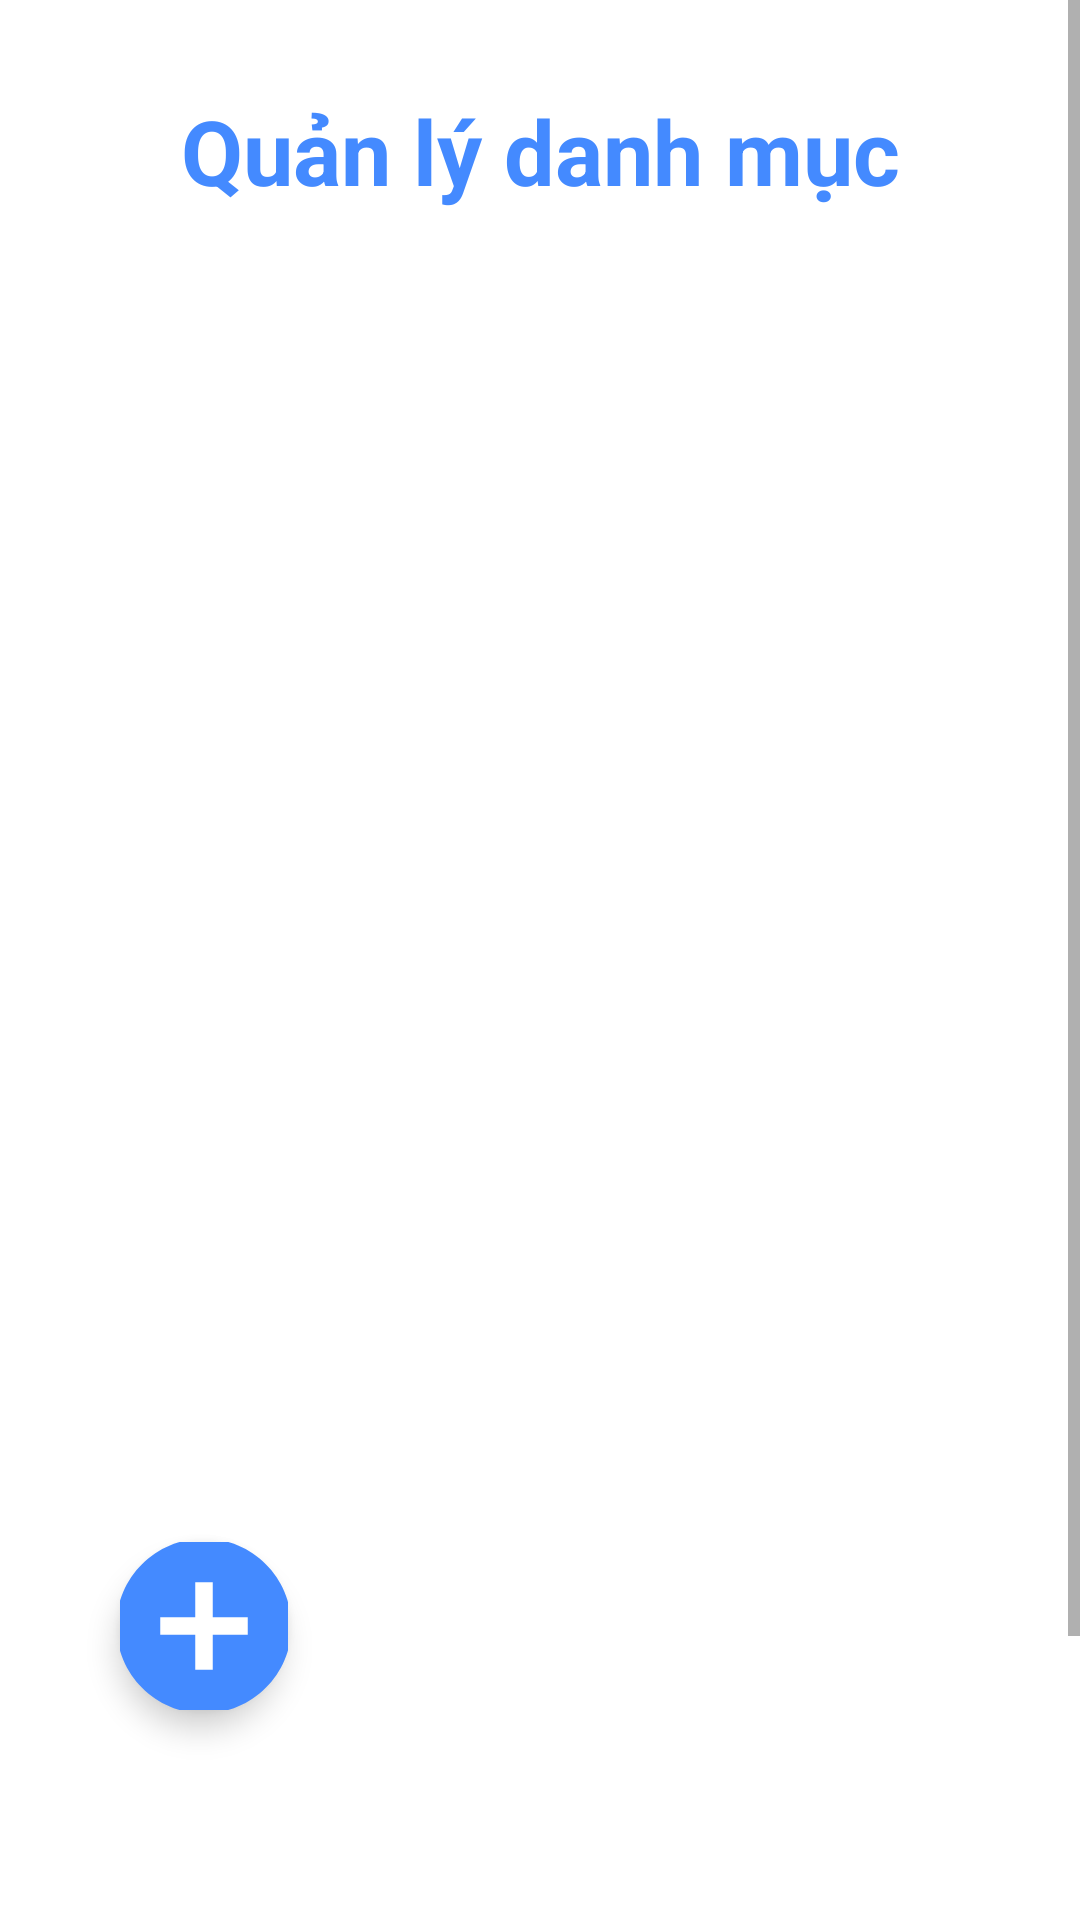

Icon click points for this 1080 x 1920 phone screenshot, format [x,y]:
add circle: [204,1626]
